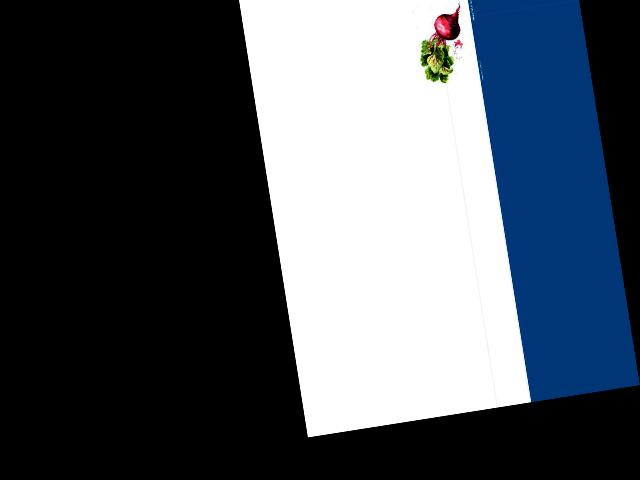beet: (413, 3, 472, 86)
